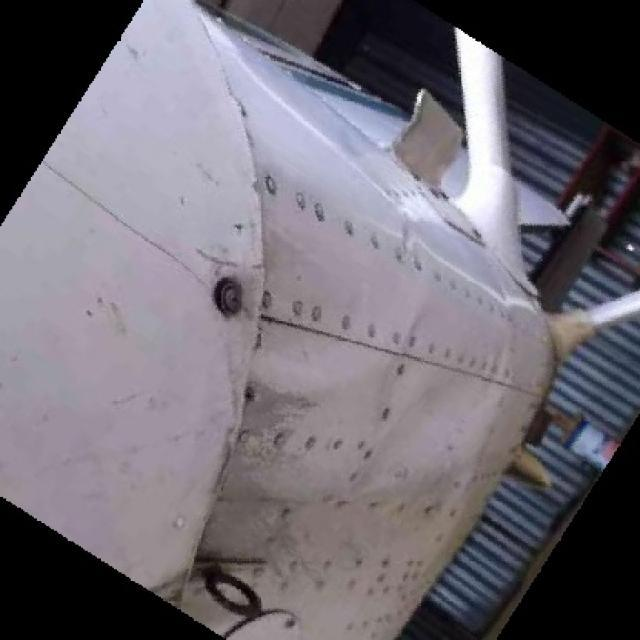dent: (233, 291, 387, 400), (346, 409, 488, 486)
